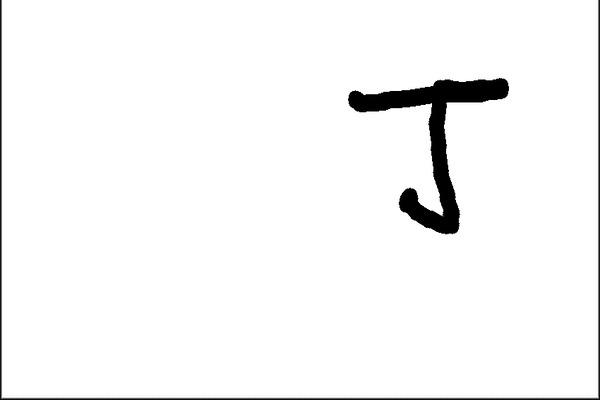J: (340, 70, 514, 244)
